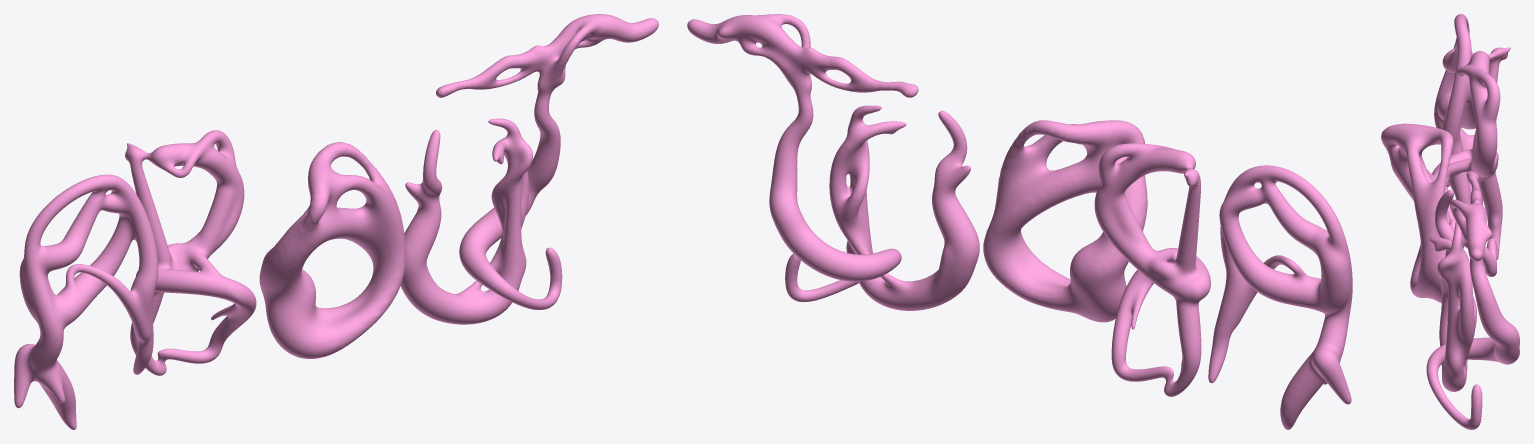
Rendered from about.glb.
3 renders of one model, left to right at view 1: azimuth 30°, elevation 25°; view 2: azimuth 150°, elevation 25°; view 3: azimuth 270°, elevation 25°, orthographic. The views are drawn at different scales.
Visible parts, largest first — view 1: Volume_Mesher_4; view 2: Volume_Mesher_4; view 3: Volume_Mesher_4.
Boxes of the visible parts, box(x1,y1,x2,y2) form: Volume_Mesher_4: box(14, 14, 658, 429); Volume_Mesher_4: box(687, 14, 1352, 429); Volume_Mesher_4: box(1381, 14, 1519, 429).
Size of the model in its own units: 4.57 by 1.91 by 0.9704.
